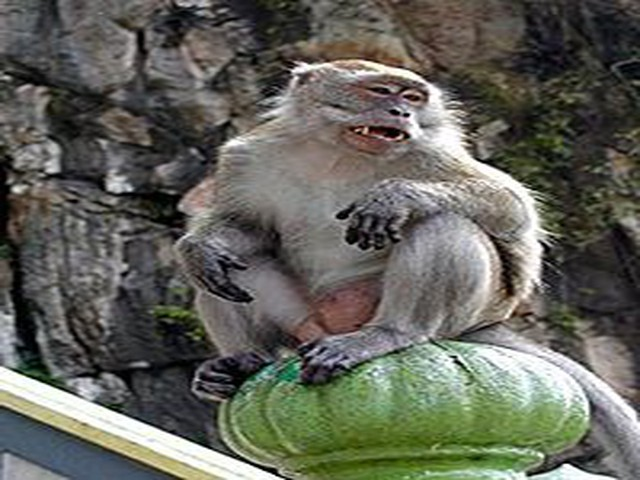Monkey: (175, 56, 547, 386)
